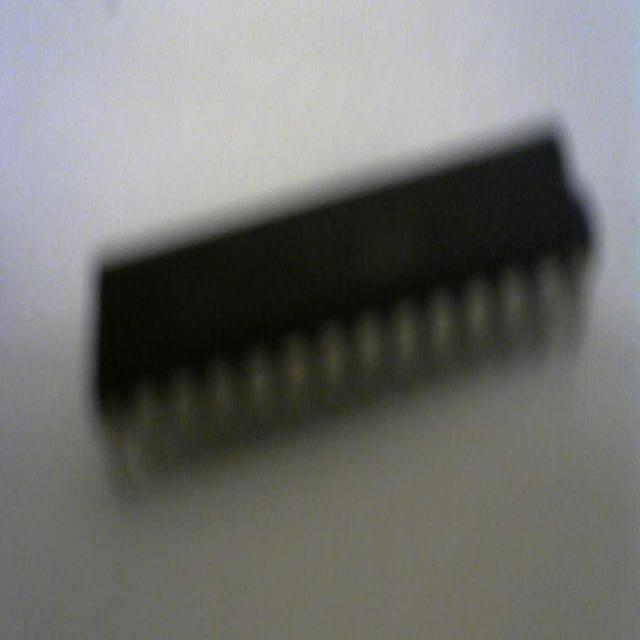atmega: (88, 115, 600, 482)
